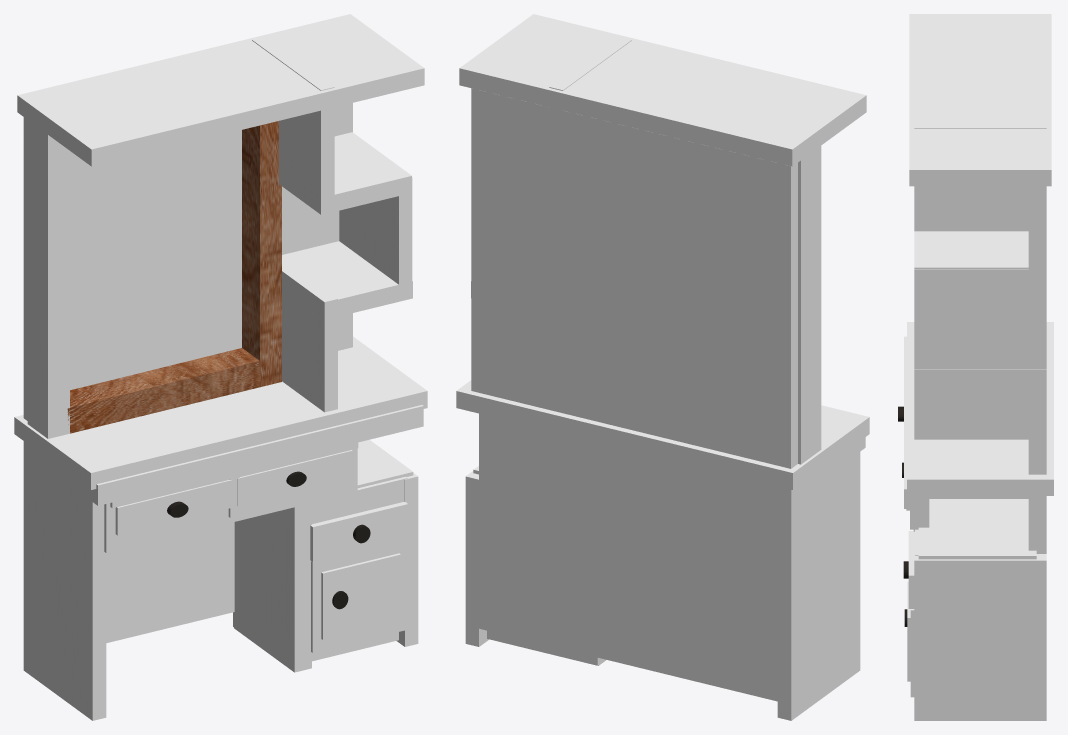
Rendered from mejarias.glb.
3 renders of one model, left to right at view 1: azimuth 30°, elevation 25°; view 2: azimuth 150°, elevation 25°; view 3: azimuth 270°, elevation 25°, orthographic. The views are drawn at different scales.
Parts seen in each view (by area): view 1: CENTRAL LARGE BACK PANEL.001, UPPER TOP CROWN.001, THICK DESKTOP.001, LEFT DESK SIDE.001, UPPER LEFT SIDE.006, LOWER BACK PANEL.001, CABINET LEFT SIDE.001, UPPER LEFT SIDE.005, UPPER LEFT SIDE.003, DESKTOP FRONT FASCIA.001, RIGHT SHELF OUTER VERTICAL.003, RIGHT SHELF OUTER VERTICAL.004 (+14 smaller); view 2: CENTRAL LARGE BACK PANEL.001, LOWER BACK PANEL.001, UPPER TOP CROWN.001, LEFT DESK SIDE.001, THICK DESKTOP.001, UPPER LEFT SIDE.006, RIGHT DESK SIDE.001, RIGHT SHELF OUTER VERTICAL.004, RIGHT SHELF OUTER VERTICAL.005, RIGHT SHELF OUTER VERTICAL.003, RIGHT SHELF 2.001, RIGHT SHELF 3.001 (+1 smaller); view 3: UPPER TOP CROWN.001, RIGHT DESK SIDE.001, RIGHT SHELF OUTER VERTICAL.005, THICK DESKTOP.001, RIGHT SHELF OUTER VERTICAL.004, RIGHT SHELF OUTER VERTICAL.003, RIGHT OPEN SHELF TOP.001, CENTRAL LARGE BACK PANEL.001, RIGHT SHELF 2.001, RIGHT SHELF 3.001, LOWER BACK PANEL.001, CABINET LEFT SIDE.001 (+6 smaller).
Boxes of the visible parts, x1,y1,x2,y2 form: CENTRAL LARGE BACK PANEL.001: (23, 103, 352, 420); UPPER TOP CROWN.001: (17, 14, 424, 166); THICK DESKTOP.001: (14, 336, 427, 489); LEFT DESK SIDE.001: (23, 441, 106, 720); UPPER LEFT SIDE.006: (27, 120, 69, 438); LOWER BACK PANEL.001: (106, 522, 234, 643); CABINET LEFT SIDE.001: (234, 503, 311, 672); UPPER LEFT SIDE.005: (242, 121, 281, 386); UPPER LEFT SIDE.003: (67, 348, 260, 433); DESKTOP FRONT FASCIA.001: (91, 405, 423, 505); RIGHT SHELF OUTER VERTICAL.003: (282, 258, 337, 412); RIGHT SHELF OUTER VERTICAL.004: (252, 36, 334, 214); CENTRAL LARGE BACK PANEL.001: (471, 88, 797, 468); LOWER BACK PANEL.001: (479, 413, 777, 701); UPPER TOP CROWN.001: (459, 14, 866, 166); LEFT DESK SIDE.001: (777, 442, 860, 720); THICK DESKTOP.001: (456, 380, 869, 489); UPPER LEFT SIDE.006: (798, 146, 821, 464); RIGHT DESK SIDE.001: (465, 471, 488, 646); RIGHT SHELF OUTER VERTICAL.004: (549, 36, 631, 214); RIGHT SHELF OUTER VERTICAL.005: (471, 177, 484, 298); RIGHT SHELF OUTER VERTICAL.003: (546, 299, 559, 412); RIGHT SHELF 2.001: (472, 176, 559, 214); RIGHT SHELF 3.001: (471, 281, 556, 316); UPPER TOP CROWN.001: (909, 14, 1051, 186); RIGHT DESK SIDE.001: (914, 554, 1046, 720); RIGHT SHELF OUTER VERTICAL.005: (914, 269, 1028, 369); THICK DESKTOP.001: (907, 322, 1053, 495); RIGHT SHELF OUTER VERTICAL.004: (914, 122, 1046, 231); RIGHT SHELF OUTER VERTICAL.003: (914, 386, 1028, 439); RIGHT OPEN SHELF TOP.001: (918, 507, 1036, 559); CENTRAL LARGE BACK PANEL.001: (1028, 186, 1046, 474); RIGHT SHELF 2.001: (914, 231, 1028, 269); RIGHT SHELF 3.001: (914, 369, 1046, 385); LOWER BACK PANEL.001: (1028, 496, 1046, 553); CABINET LEFT SIDE.001: (913, 499, 1028, 531).
Bounding box in the file's own units: 1.55 × 2.53 × 0.6468.
Materials: 17 (7 with a texture image).
